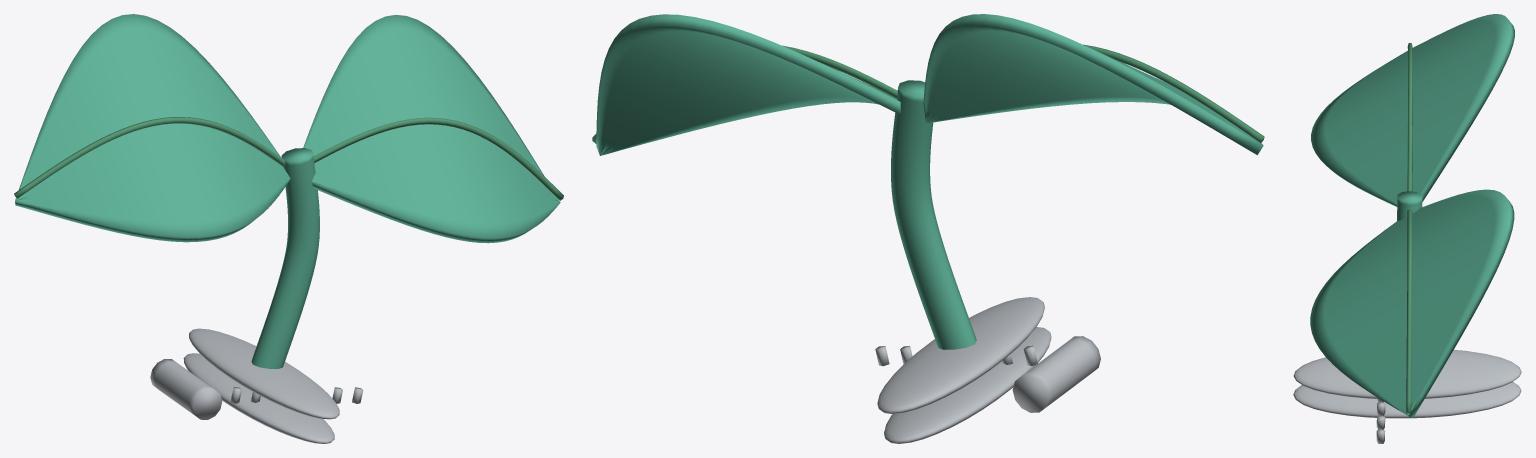
Rendered from Masculine-taper-pashmina259-sprout.glb.
3 renders of one model, left to right at view 1: azimuth 30°, elevation 25°; view 2: azimuth 150°, elevation 25°; view 3: azimuth 270°, elevation 25°, orthographic. The views are drawn at different scales.
Visible parts, largest first — view 1: 226 extra / Accessory / mint226, 226 extra / Sprout / clip silver235, 226 extra / Sprout / leaf vein235; view 2: 226 extra / Accessory / mint226, 226 extra / Sprout / clip silver235, 226 extra / Sprout / leaf vein235; view 3: 226 extra / Accessory / mint226, 226 extra / Sprout / clip silver235, 226 extra / Sprout / leaf vein235.
Part boxes in pixels (x1=…): 226 extra / Accessory / mint226: x1=15, y1=14, x2=560, y2=368; 226 extra / Sprout / clip silver235: x1=150, y1=328, x2=363, y2=443; 226 extra / Sprout / leaf vein235: x1=14, y1=117, x2=563, y2=200; 226 extra / Accessory / mint226: x1=596, y1=14, x2=1263, y2=349; 226 extra / Sprout / clip silver235: x1=875, y1=297, x2=1100, y2=443; 226 extra / Sprout / leaf vein235: x1=592, y1=44, x2=1264, y2=143; 226 extra / Accessory / mint226: x1=1310, y1=14, x2=1514, y2=417; 226 extra / Sprout / clip silver235: x1=1293, y1=349, x2=1521, y2=443; 226 extra / Sprout / leaf vein235: x1=1406, y1=43, x2=1412, y2=413.
Bounding box in the file's own units: 0.2645 × 0.1735 × 0.104.
